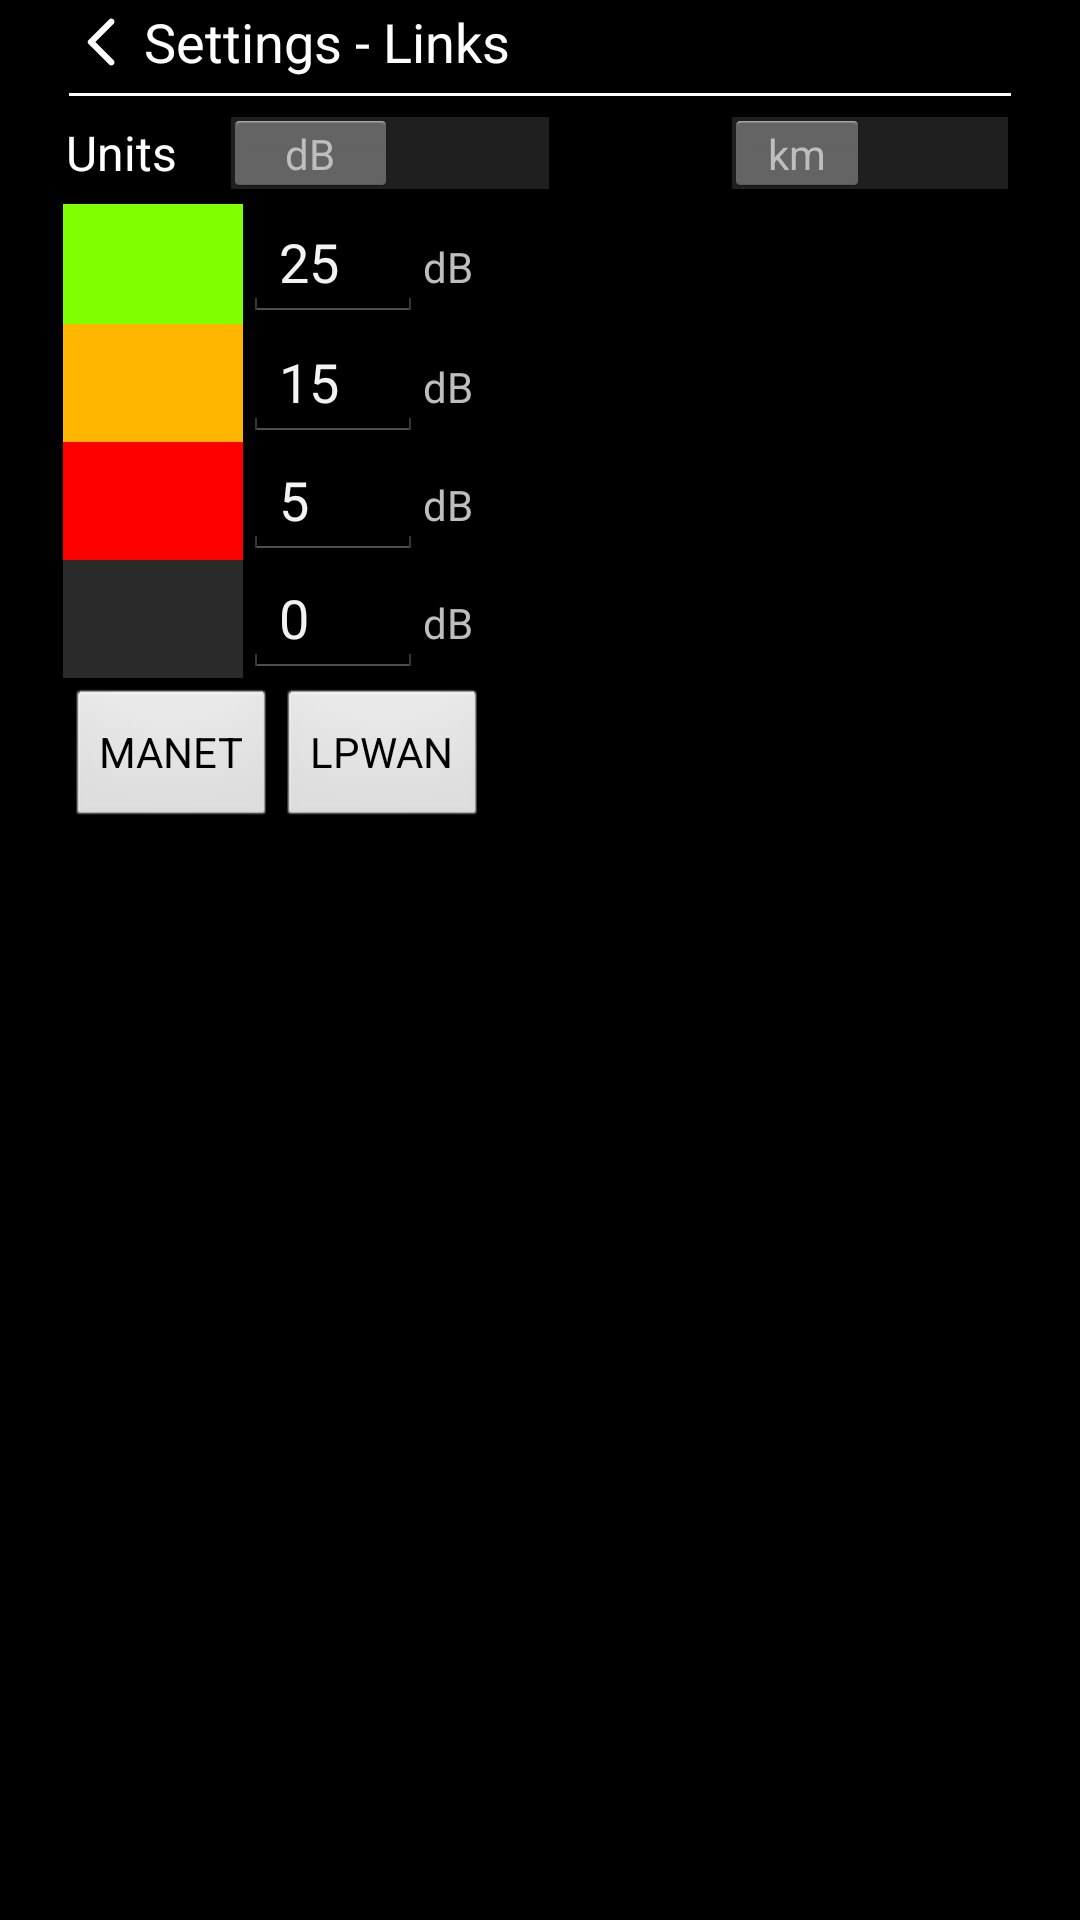

Screen size 1080 × 1920. Icon name, then its center in pixels as point (x, y):
back arrow: point (101, 42)
